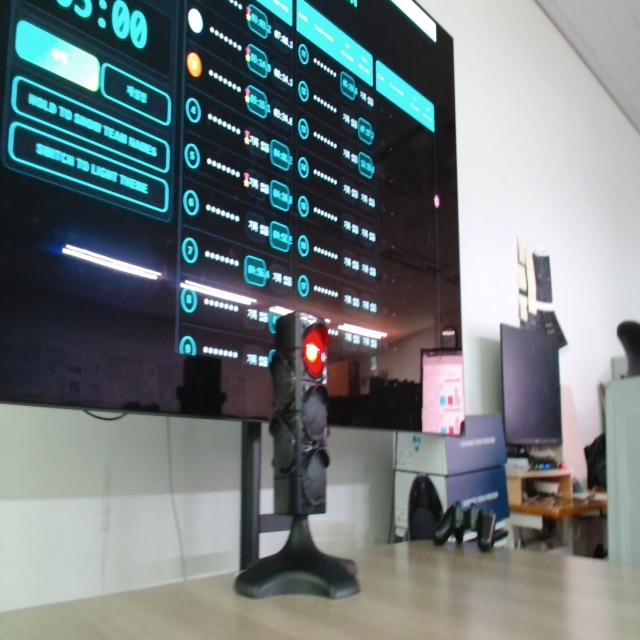red_light: (304, 325, 328, 378)
